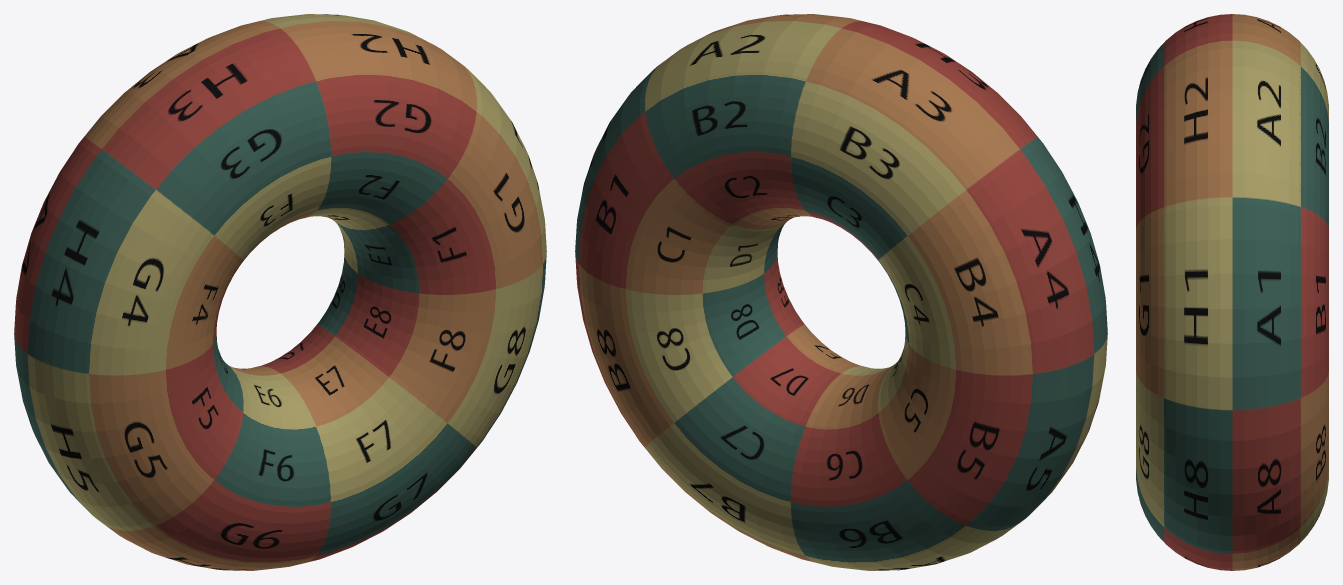
Rendered from texture_torus_R11_r27.glb.
3 views of the same model, side by side, from view 1: azimuth 30°, elevation 25°; view 2: azimuth 150°, elevation 25°; view 3: azimuth 270°, elevation 25° (orthographic). The views are drawn at different scales.
Parts seen in each view (by area): view 1: world; view 2: world; view 3: world.
Part boxes in pixels (x1,y1,x2,y2): world: (14, 14, 546, 570); world: (575, 14, 1107, 570); world: (1136, 14, 1328, 570).
Bounding box in the file's own units: 26.53 × 26.48 × 9.18.
1 material, 1 textured.
